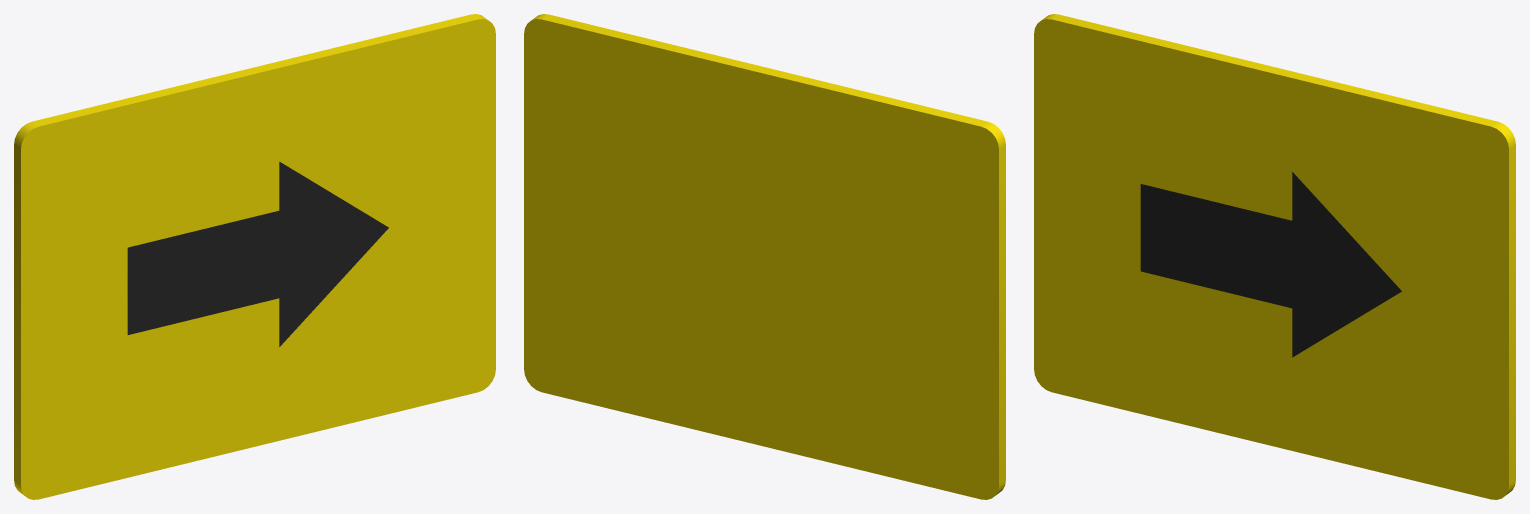
The picture shows the model from 3 angles, left to right: view 1: azimuth 30°, elevation 25°; view 2: azimuth 150°, elevation 25°; view 3: azimuth 330°, elevation 25°; orthographic projection.
Visible parts, largest first — view 1: K8_r00, K8_s50; view 2: K8_r00; view 3: K8_r00, K8_s50.
Part boxes in pixels (x1,y1,x2,y2): K8_r00: (14,14,495,499); K8_s50: (127,161,388,346); K8_r00: (524,14,1005,499); K8_r00: (1034,14,1515,499); K8_s50: (1140,172,1401,357).
Size of the model in its own units: 0.8 by 0.6 by 0.0204.
